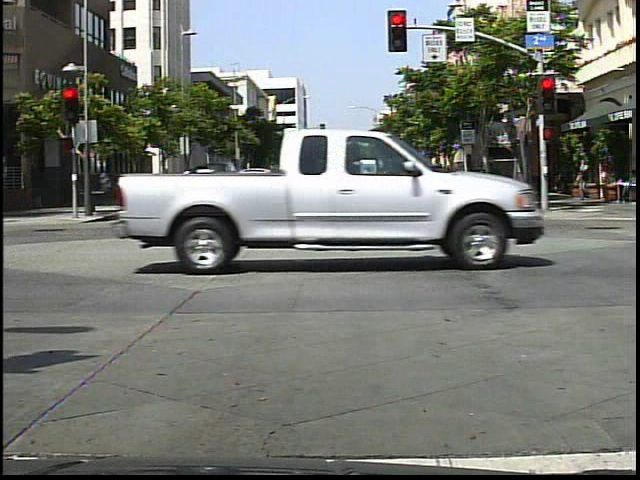person: (374, 163, 407, 238), (422, 160, 453, 224), (173, 166, 205, 225), (575, 157, 597, 205)
